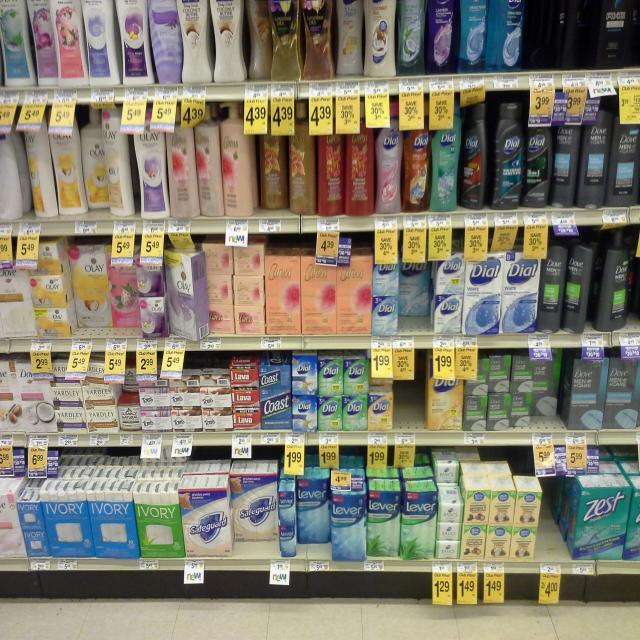void: (524, 0, 561, 70)
